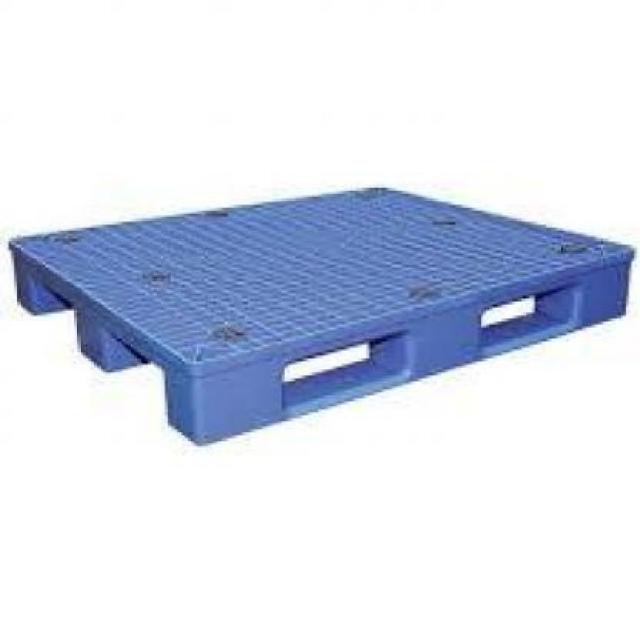pallet: (3, 183, 625, 454)
